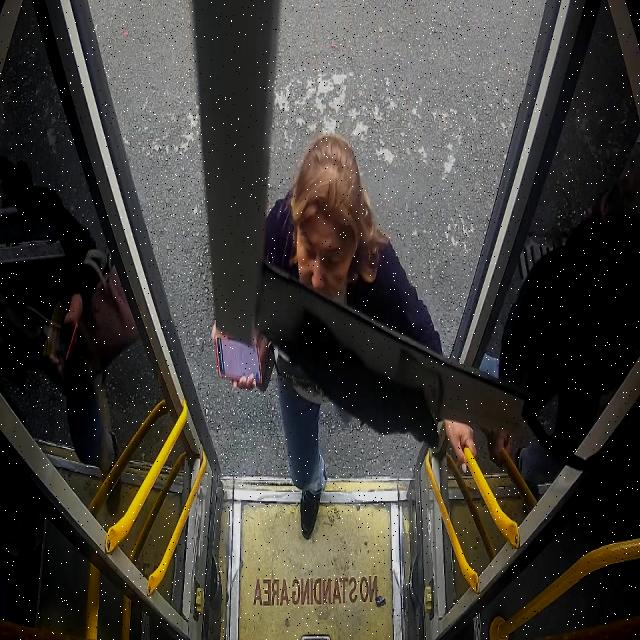open: (62, 1, 564, 487)
